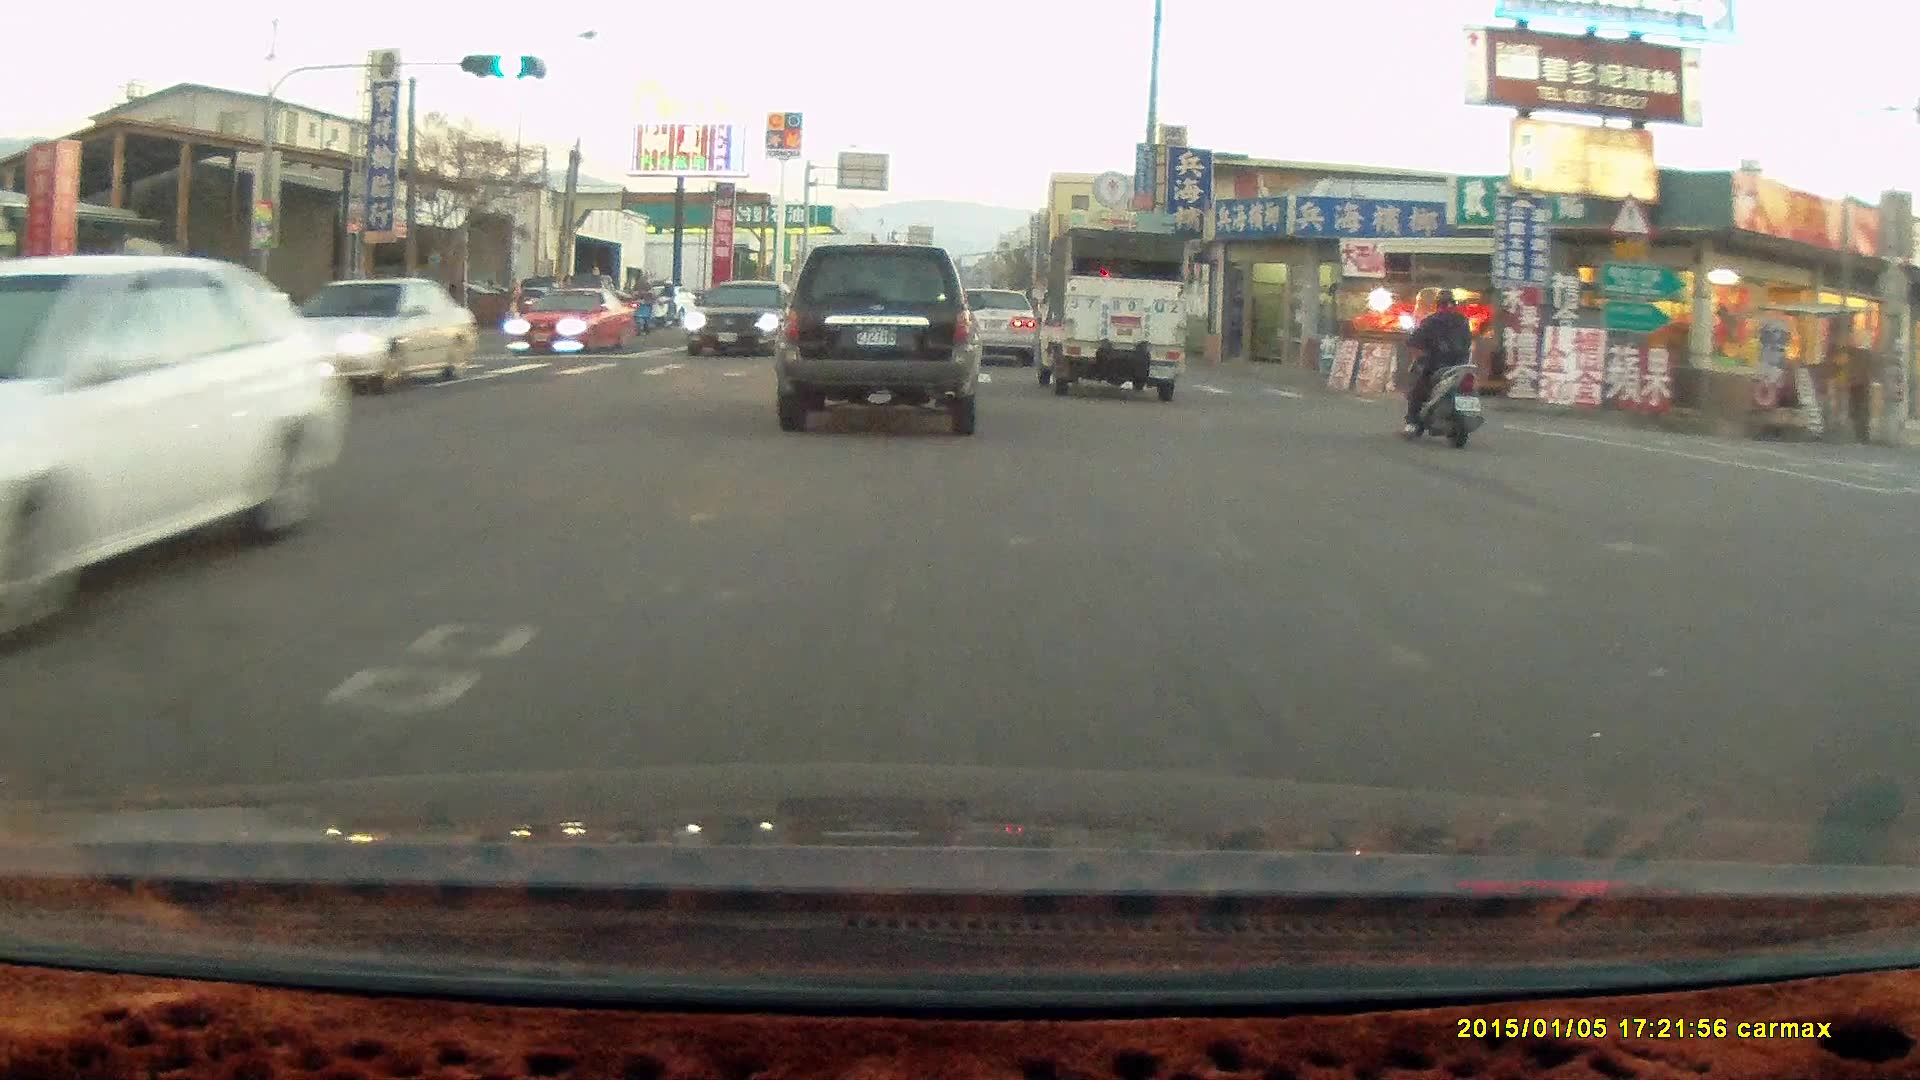rider: (1394, 283, 1482, 445), (625, 284, 660, 335), (646, 280, 679, 332)
vehicle: (1, 252, 353, 623), (772, 244, 986, 435), (228, 277, 484, 405), (1027, 226, 1183, 400), (685, 280, 811, 361), (123, 280, 285, 336), (516, 285, 631, 359), (946, 285, 1037, 366), (953, 289, 1040, 369)
